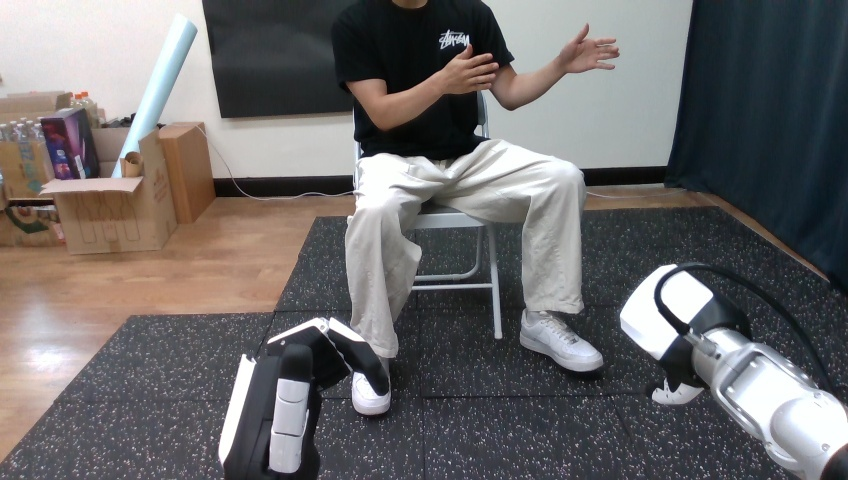left robot hand: (620, 263, 847, 479), (219, 318, 389, 479), (556, 24, 618, 74), (439, 45, 498, 94)
